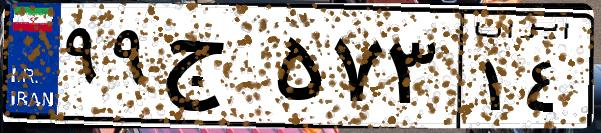1: (475, 38, 525, 113)
3: (385, 28, 445, 110)
4: (525, 38, 570, 115)
5: (270, 28, 330, 110)
7: (330, 28, 385, 110)
9: (57, 26, 110, 100), (110, 28, 158, 98)
ج: (158, 20, 270, 120)
